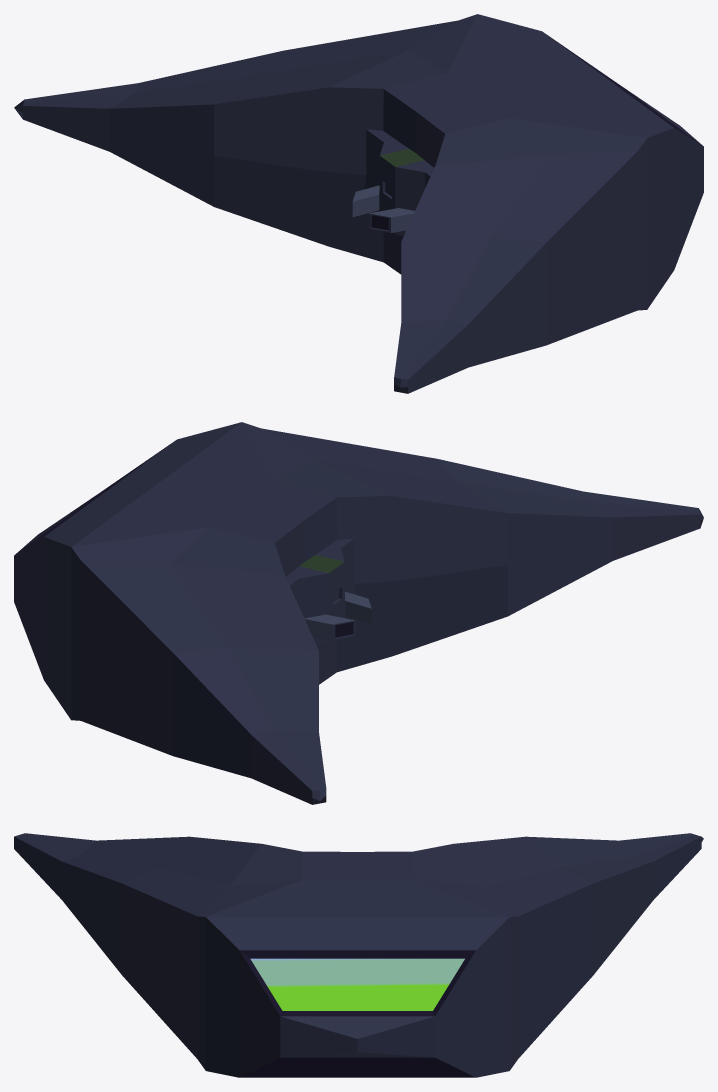
File: M_Spaceship_02.fbx
3 renders of one model, top to bottom at view 1: azimuth 30°, elevation 25°; view 2: azimuth 150°, elevation 25°; view 3: azimuth 270°, elevation 25°, orthographic. The views are drawn at different scales.
Parts seen in each view (by area): view 1: Spaceship_01, Spaceship_02; view 2: Spaceship_01, Spaceship_02; view 3: Spaceship_01.
Part boxes in pixels (box(x1,y1,x2,y2)): Spaceship_01: box(14, 14, 703, 393); Spaceship_02: box(352, 129, 433, 235); Spaceship_01: box(14, 422, 703, 804); Spaceship_02: box(286, 538, 371, 643); Spaceship_01: box(14, 833, 703, 1077).
Size of the model in its own units: 241 by 84.65 by 340.
Materials: 2 (2 with a texture image).
